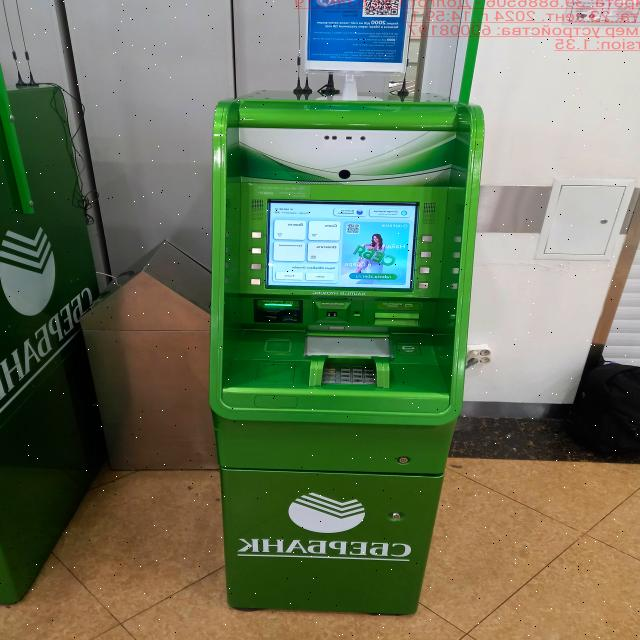bank: (211, 88, 485, 620), (0, 84, 111, 607)
